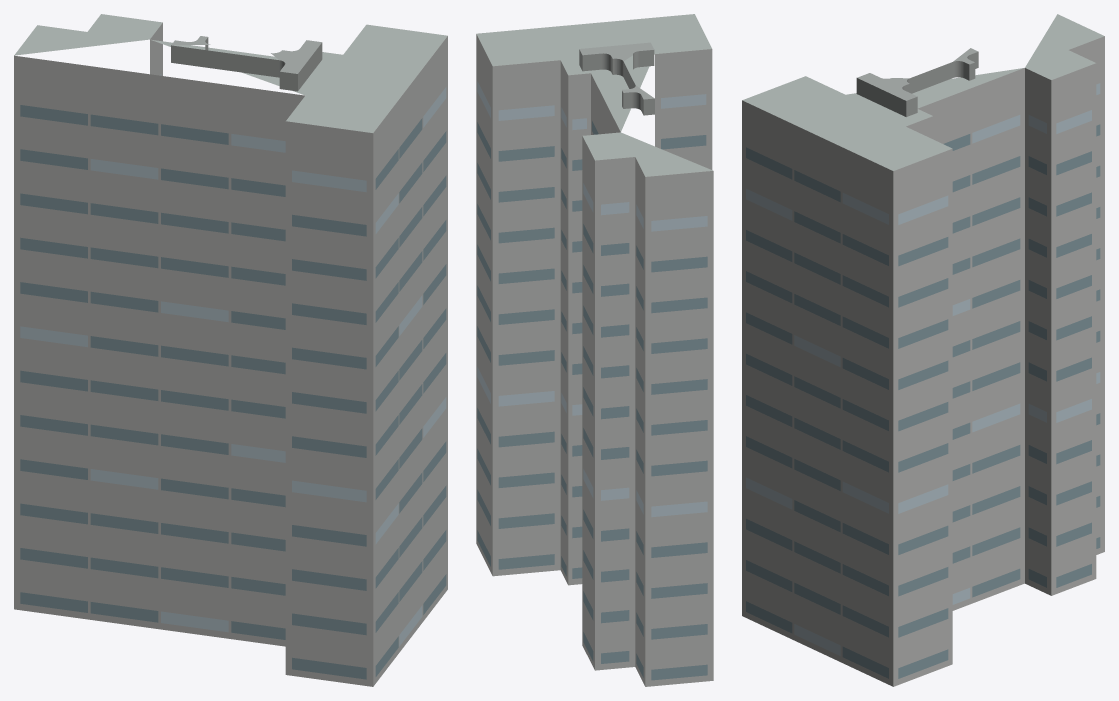
File: fallback-gaepo-xi-presidence-430.glb
The picture shows the model from 3 angles, left to right: view 1: azimuth 30°, elevation 25°; view 2: azimuth 150°, elevation 25°; view 3: azimuth 270°, elevation 25°; orthographic projection. The views are drawn at different scales.
Parts seen in each view (by area): view 1: fallback-gaepo-xi-presidence-430; view 2: fallback-gaepo-xi-presidence-430; view 3: fallback-gaepo-xi-presidence-430.
Part boxes in pixels (bbox=[...]): fallback-gaepo-xi-presidence-430: bbox=[14, 14, 447, 686]; fallback-gaepo-xi-presidence-430: bbox=[476, 14, 713, 686]; fallback-gaepo-xi-presidence-430: bbox=[742, 14, 1104, 686].
Size of the model in its own units: 49.85 by 78.65 by 48.6.
